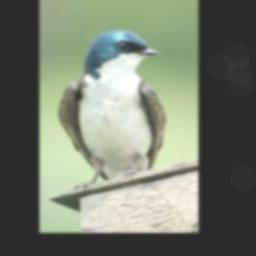Swallow: (58, 27, 167, 192)
